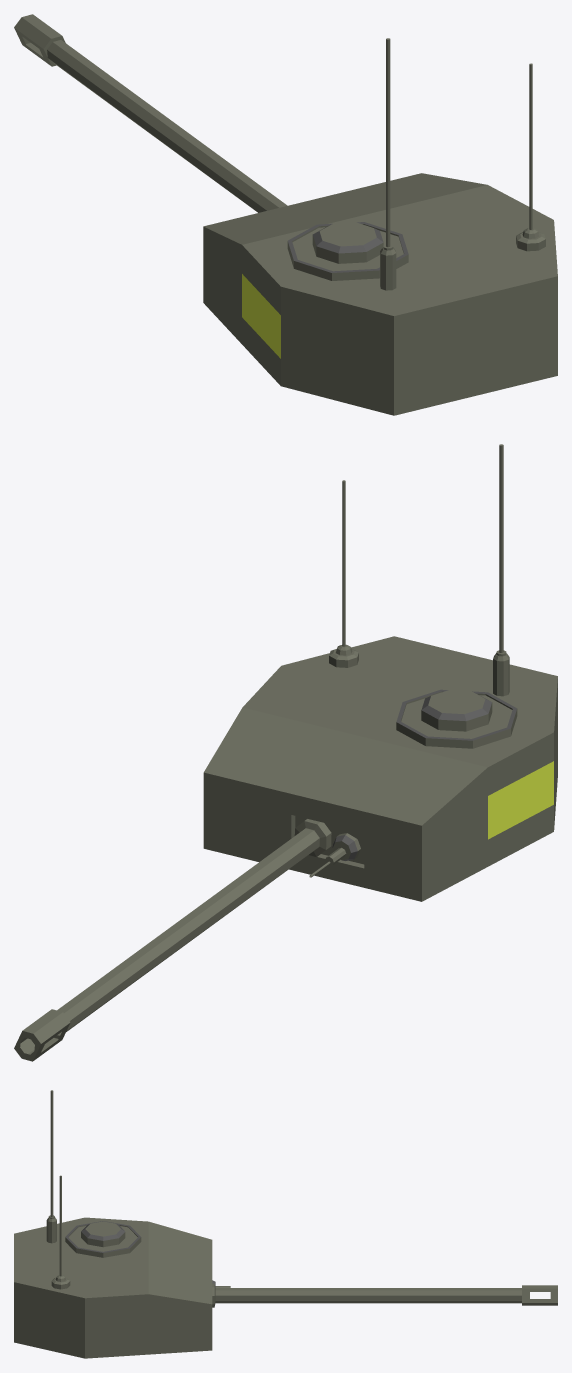
Rendered from CromwellTankTop.fbx.
3 renders of one model, top to bottom at view 1: azimuth 30°, elevation 25°; view 2: azimuth 150°, elevation 25°; view 3: azimuth 270°, elevation 25°, orthographic. The views are drawn at different scales.
Visible parts, largest first — view 1: CromwellTop; view 2: CromwellTop; view 3: CromwellTop.
Boxes of the visible parts, box(x1,y1,x2,y2) form: CromwellTop: box(14, 14, 557, 415); CromwellTop: box(14, 444, 557, 1061); CromwellTop: box(14, 1090, 557, 1358).
Size of the model in its own units: 313 by 381 by 891.
